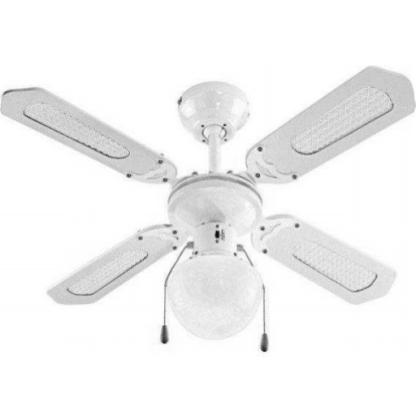ceiling-fan: (1, 65, 415, 354)
